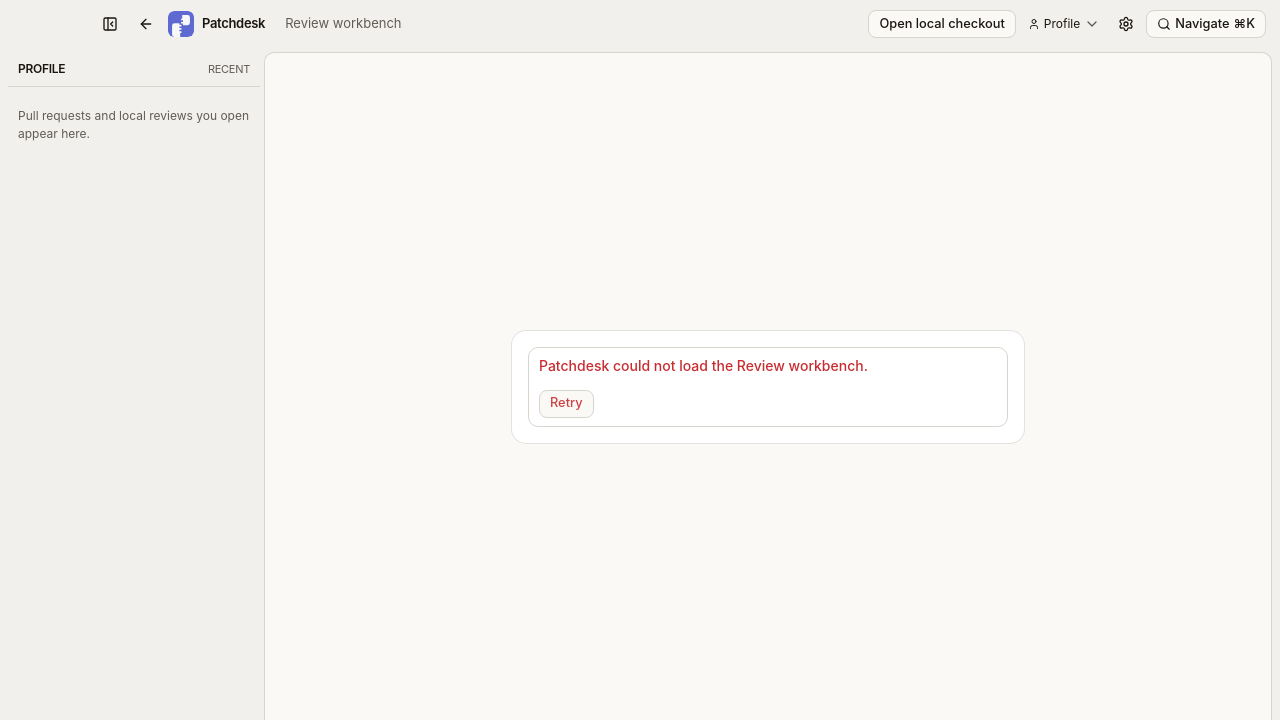
Test case: App Review route loading › shows a retryable Review chunk failure
The image size is (1280, 720).
Check: the message shows "could not load the Review workbench", box [539,356,868,374]
Check: the element showing "Patchdesk could not load the Review workbench. Retry" is shown, box [512,330,1024,442]
Click the button "Retry": (566, 404) [539,390,594,418]
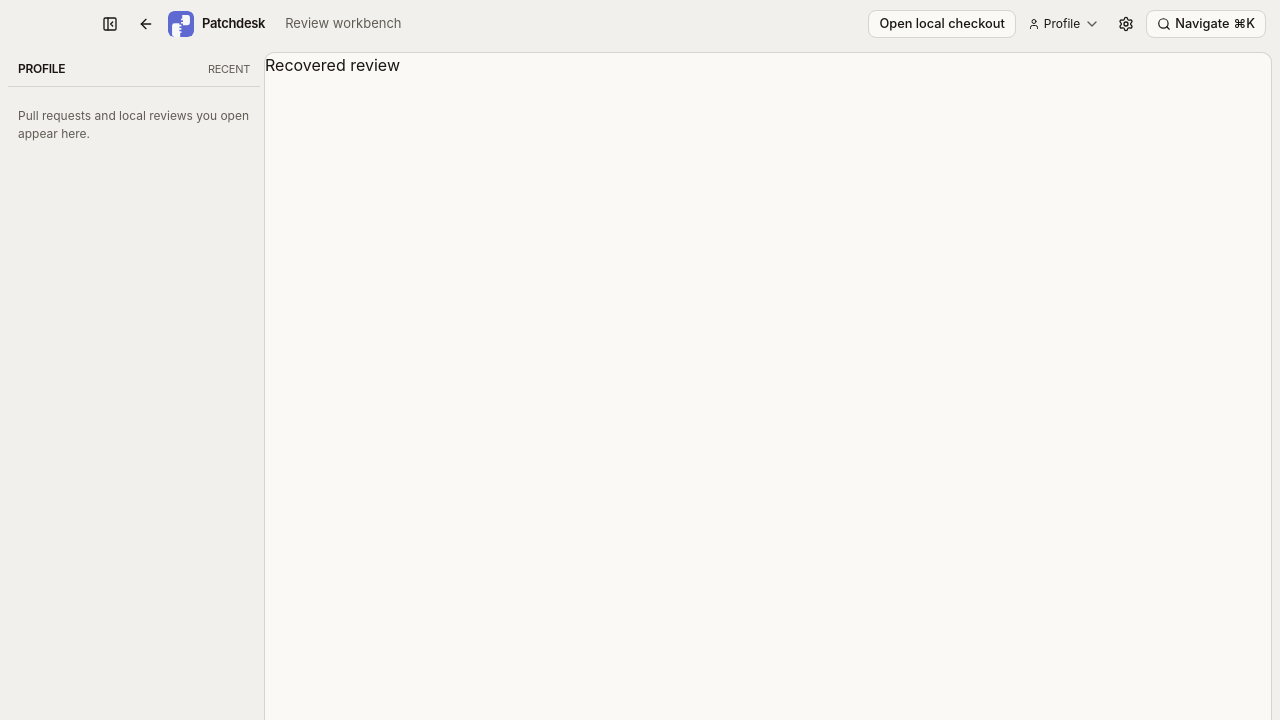
Check: the text "Recovered review" is shown, box [265,55,400,75]
